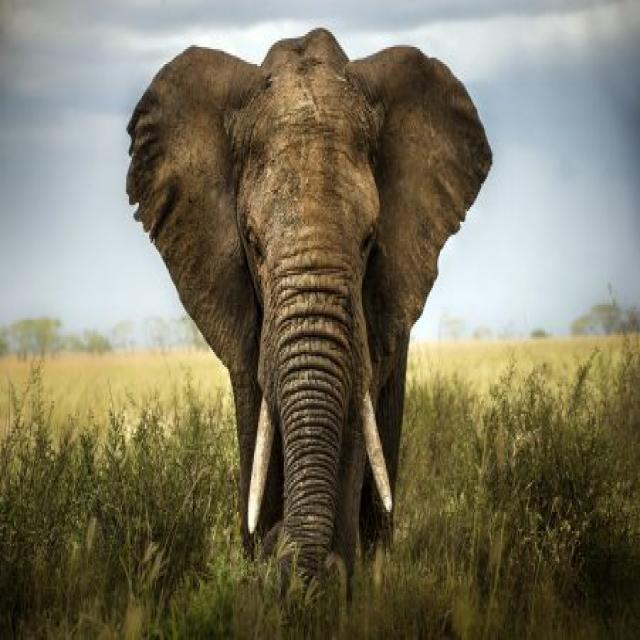Elephant: (119, 22, 500, 594)
